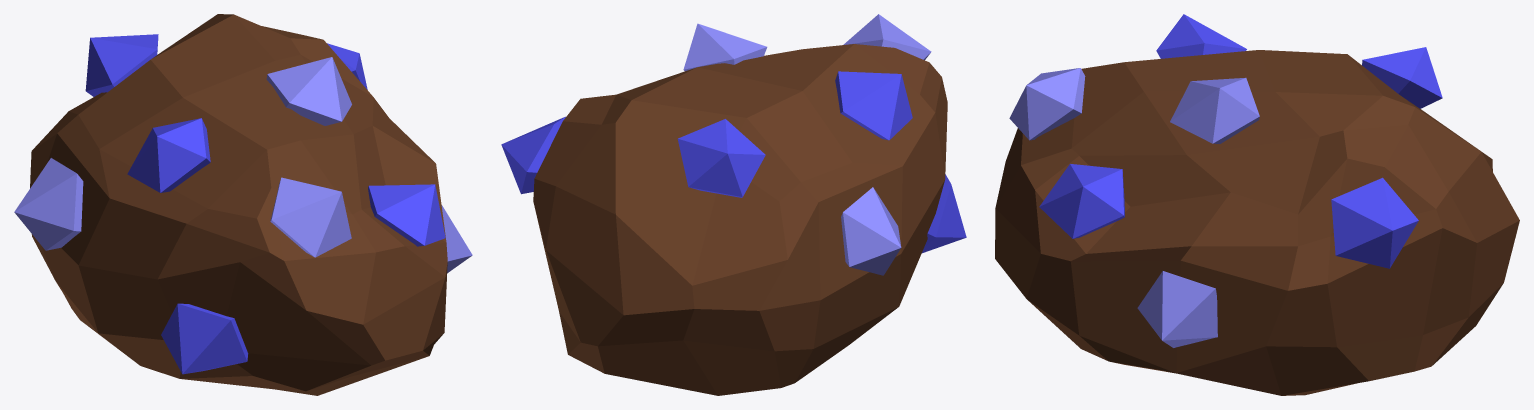
Rendered from MineralNode_02_A.fbx.
The picture shows the model from 3 angles, left to right: view 1: azimuth 30°, elevation 25°; view 2: azimuth 150°, elevation 25°; view 3: azimuth 270°, elevation 25°; orthographic projection. The views are drawn at different scales.
Visible parts, largest first — view 1: MineralNode_02_A; view 2: MineralNode_02_A; view 3: MineralNode_02_A.
Part boxes in pixels (box(x1,y1,x2,y2)): MineralNode_02_A: box(14, 14, 472, 395); MineralNode_02_A: box(501, 14, 966, 395); MineralNode_02_A: box(995, 14, 1519, 395).
Size of the model in its own units: 84.83 by 62.61 by 103.
